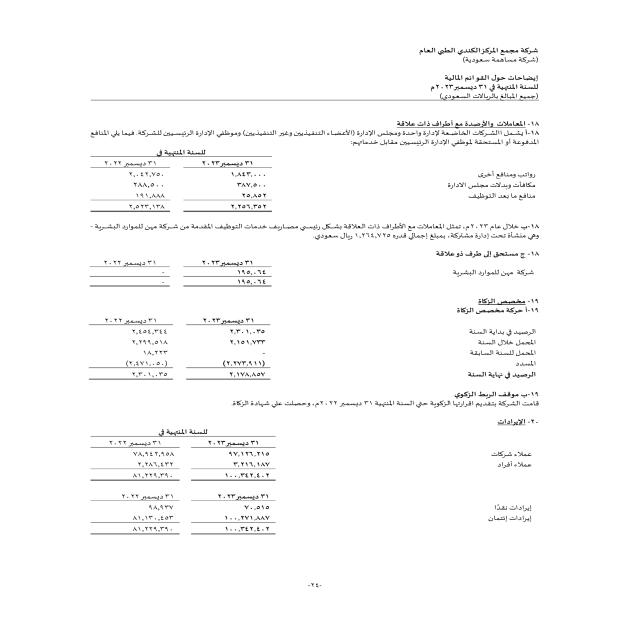notes: (436, 75, 538, 84)
table: (54, 420, 288, 546), (69, 311, 296, 387), (78, 145, 273, 215), (65, 247, 280, 300)
